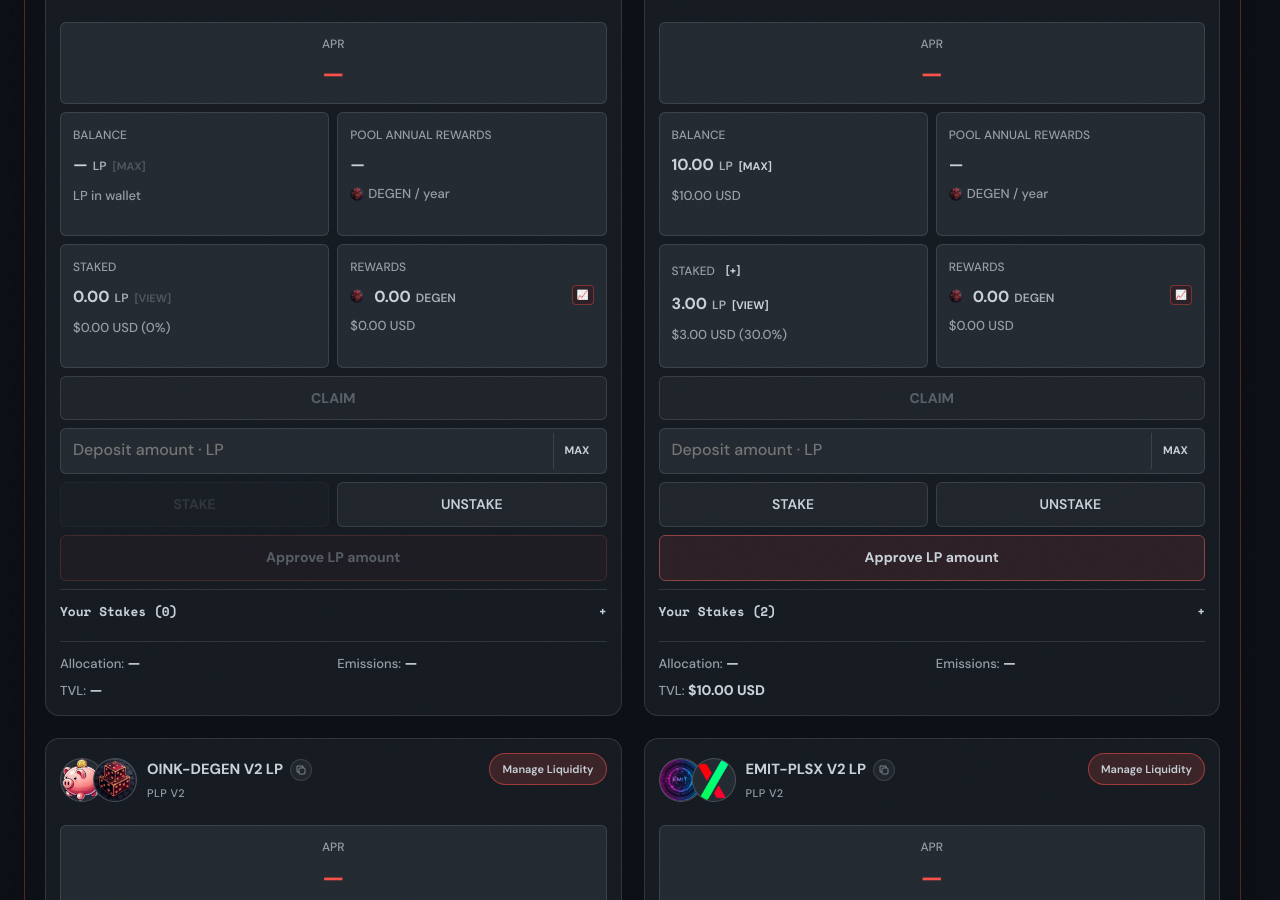
farm position management › creates another stake without merging it into an existing one
(page scrolled)
Type "3" into the number field with placeholder "Deposit amount · LP" below "$3.00 USD (30.0%)". click: {"x": 932, "y": 451}
box: [658,428,1205,474]
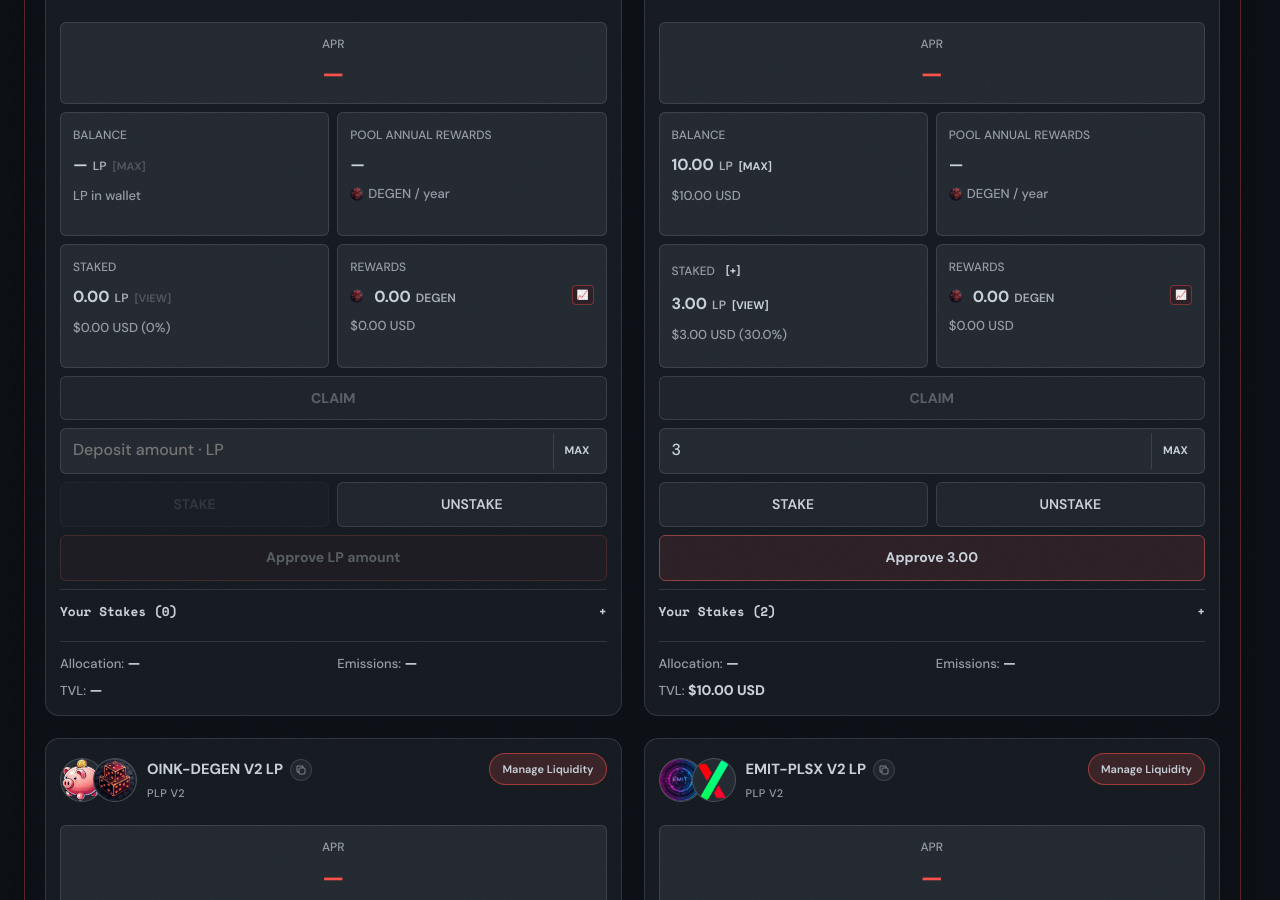
Click the button with aria-label "Create New Stake". click: {"x": 793, "y": 504}
box: [658,482,928,527]
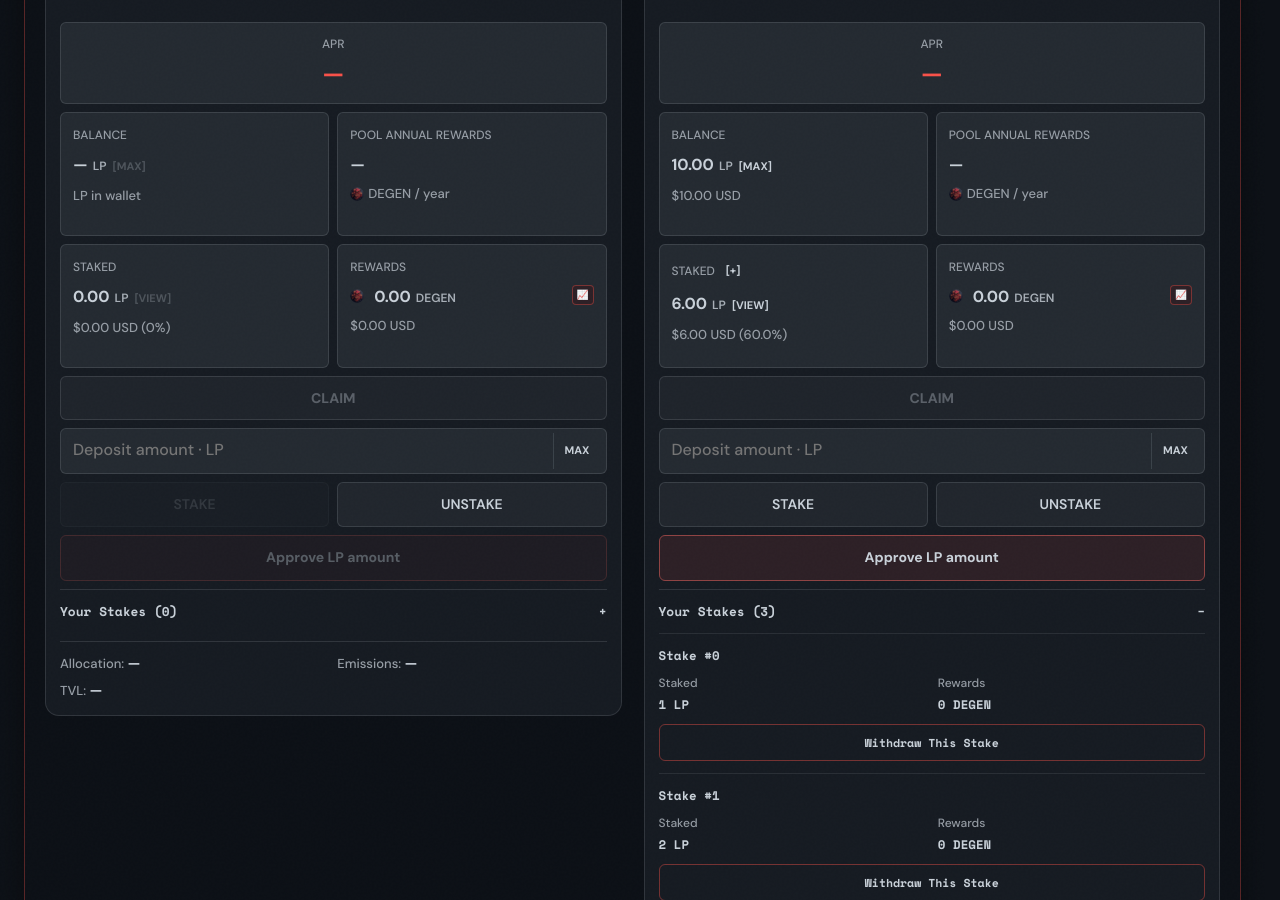
Expected: the number field with placeholder "Deposit amount · LP" below "$6.00 USD (60.0%)" is not empty, [658,428,1205,474]
